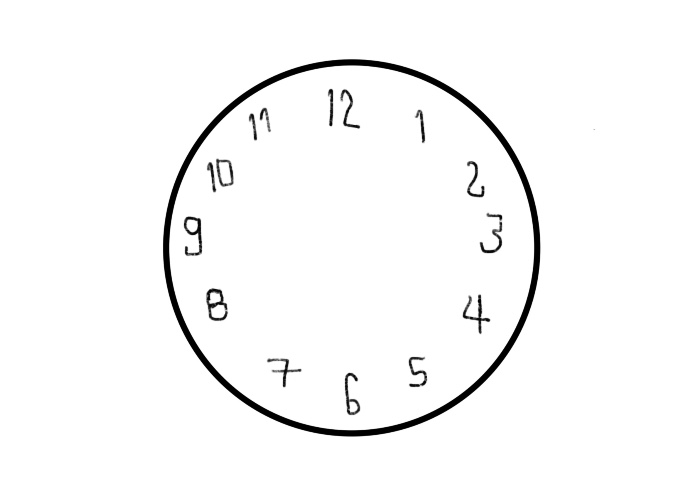eight: (201, 283, 231, 322)
eleven: (245, 105, 273, 144)
five: (404, 350, 430, 387)
four: (460, 290, 492, 335)
nine: (180, 214, 206, 256)
one: (412, 103, 432, 145)
seven: (262, 352, 305, 393)
six: (341, 368, 363, 417)
ten: (204, 157, 237, 193)
three: (479, 207, 505, 254)
twelve: (322, 87, 362, 130)
two: (462, 156, 485, 200)
